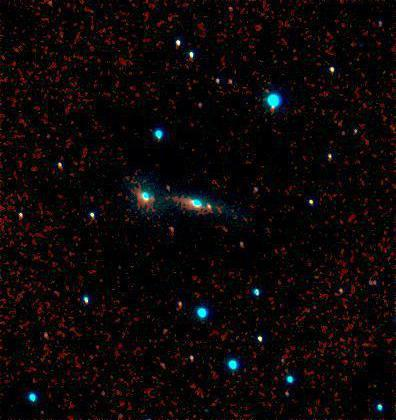star: (199, 188, 229, 218)
